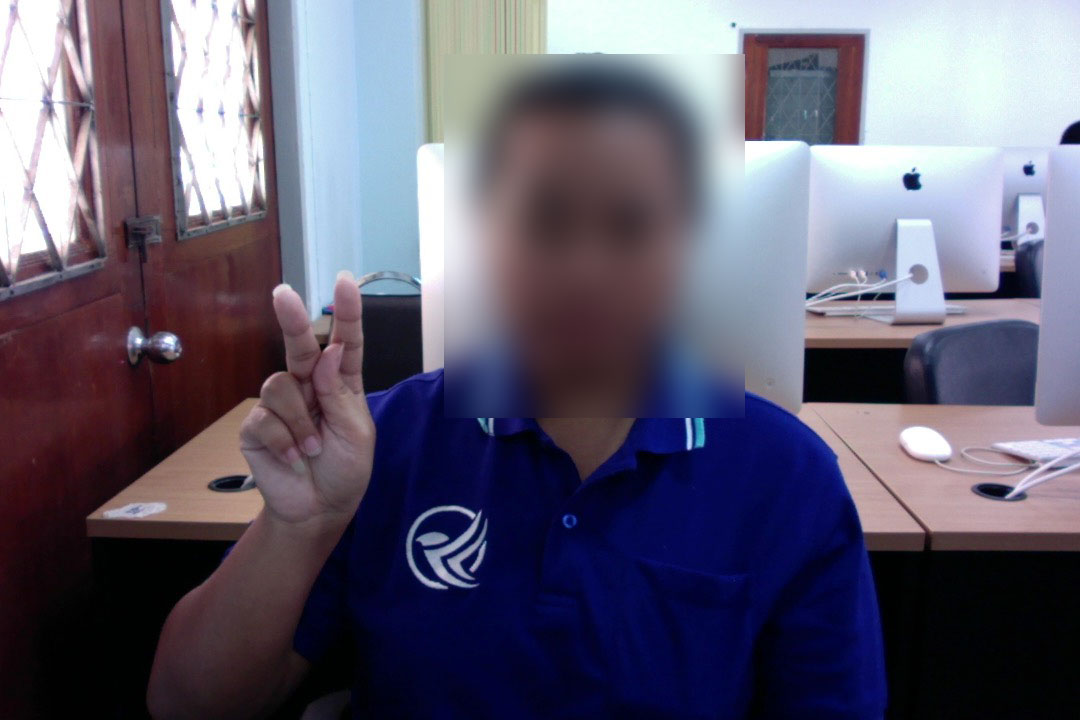ko: (231, 265, 392, 531)
